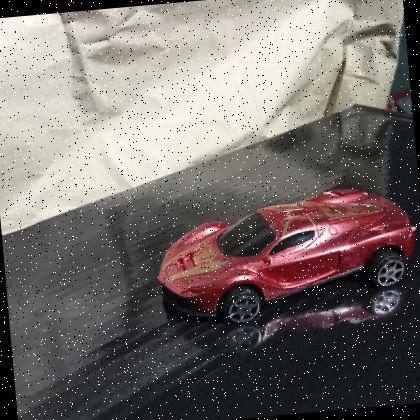Car: (157, 189, 417, 325)
